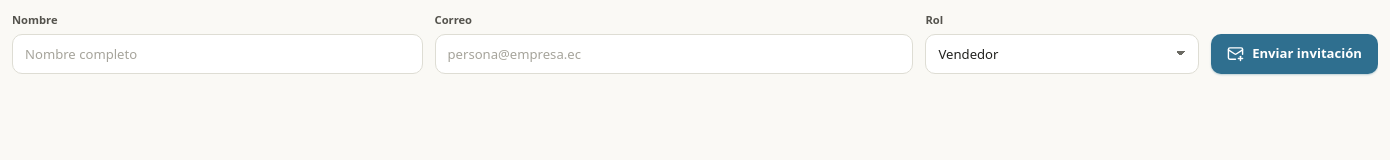
marca los campos con error y conserva lo escrito
Type "Ana2" into the field labelled "Nombre" at (217, 54), box [12,34,422,74]
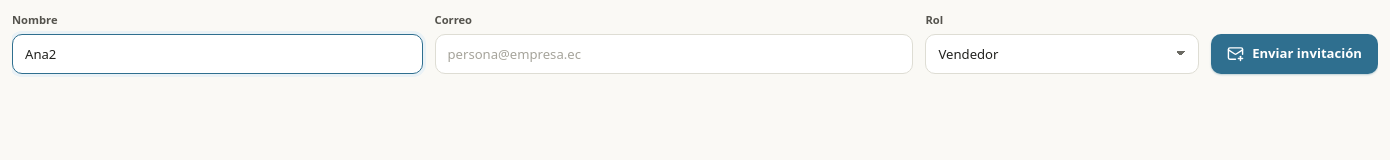
Type "ana@empresa" into the field labelled "Correo" at (674, 54), box [434,34,914,74]
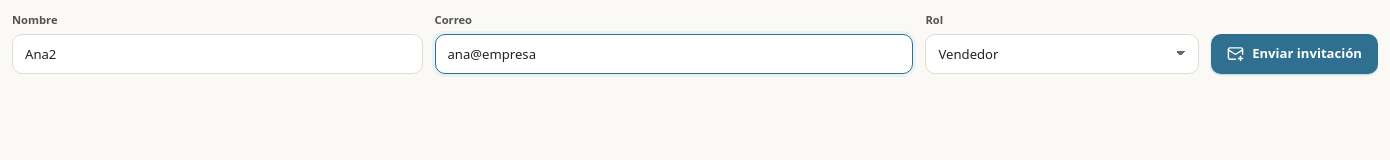
Click the button "Enviar invitación" at (1295, 54), box [1211,34,1378,74]
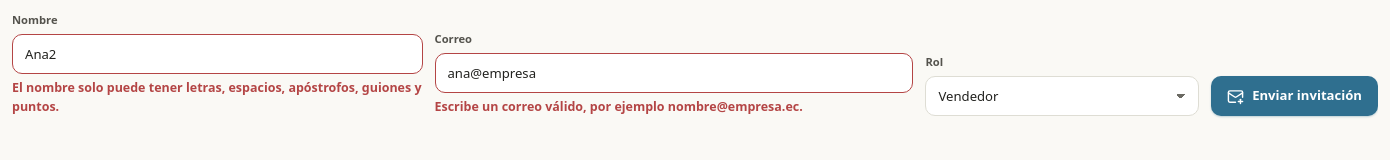
Now the text "El nombre solo puede tener letras, espacios, apóstrofos, guiones y puntos." is shown, box [12,79,422,116]
